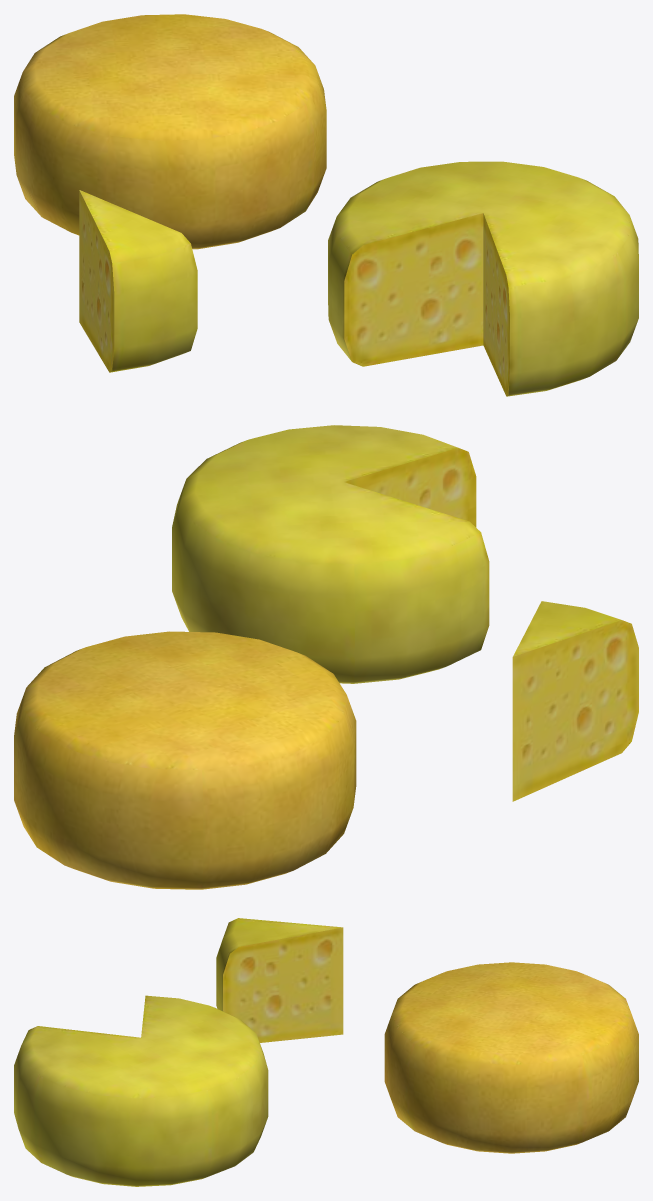
Rendered from cheese.glb.
3 views of the same model, one above another, from view 1: azimuth 30°, elevation 25°; view 2: azimuth 150°, elevation 25°; view 3: azimuth 270°, elevation 25° (orthographic). The views are drawn at different scales.
Visible parts, largest first — view 1: cheese; view 2: cheese; view 3: cheese.
Part boxes in pixels (x1,y1,x2,y2): cheese: (14, 14, 638, 396); cheese: (14, 425, 638, 889); cheese: (14, 918, 638, 1186).
Size of the model in its own units: 0.109 by 0.0303 by 0.16.
Materials: 1 (1 with a texture image).
